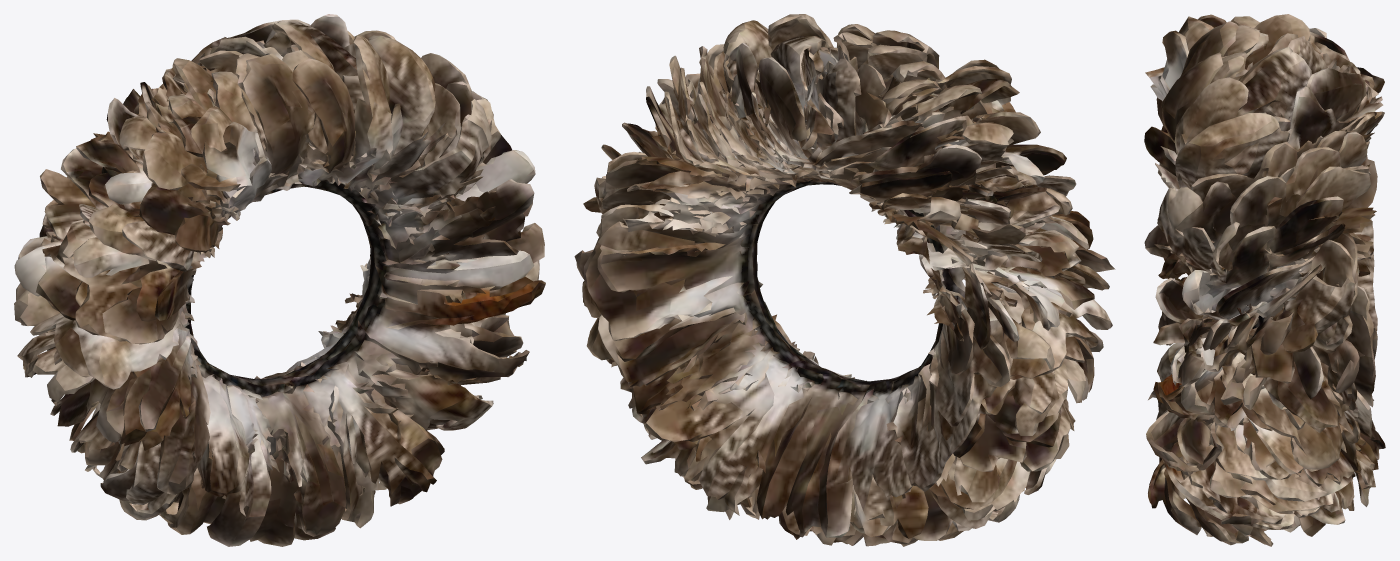
3 views of the same model, side by side, from view 1: azimuth 30°, elevation 25°; view 2: azimuth 150°, elevation 25°; view 3: azimuth 270°, elevation 25° (orthographic). The views are drawn at different scales.
Visible parts, largest first — view 1: geometry_0; view 2: geometry_0; view 3: geometry_0.
Boxes of the visible parts, bbox=[...] form: geometry_0: bbox=[14, 14, 545, 546]; geometry_0: bbox=[574, 14, 1115, 546]; geometry_0: bbox=[1144, 14, 1385, 546].
Size of the model in its own units: 0.35 by 0.3508 by 0.162.
1 material, 1 textured.
